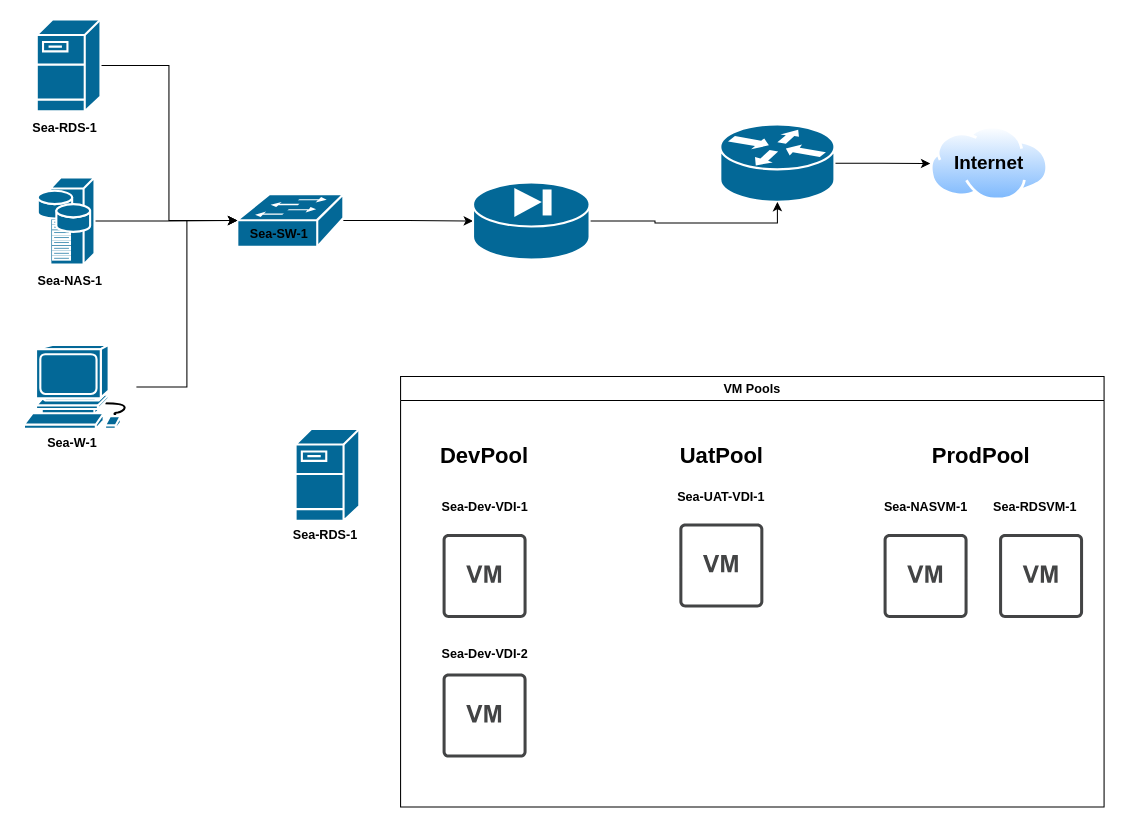
Some shapes in this 1124 by 825 pixel diagram are drawn without their labels. The shapes that lost their labels are listed below. From the top down, each one's centre as x and y in pixels, then its label:
point (777, 162): Home Router
point (530, 220): Sea-FW-1
